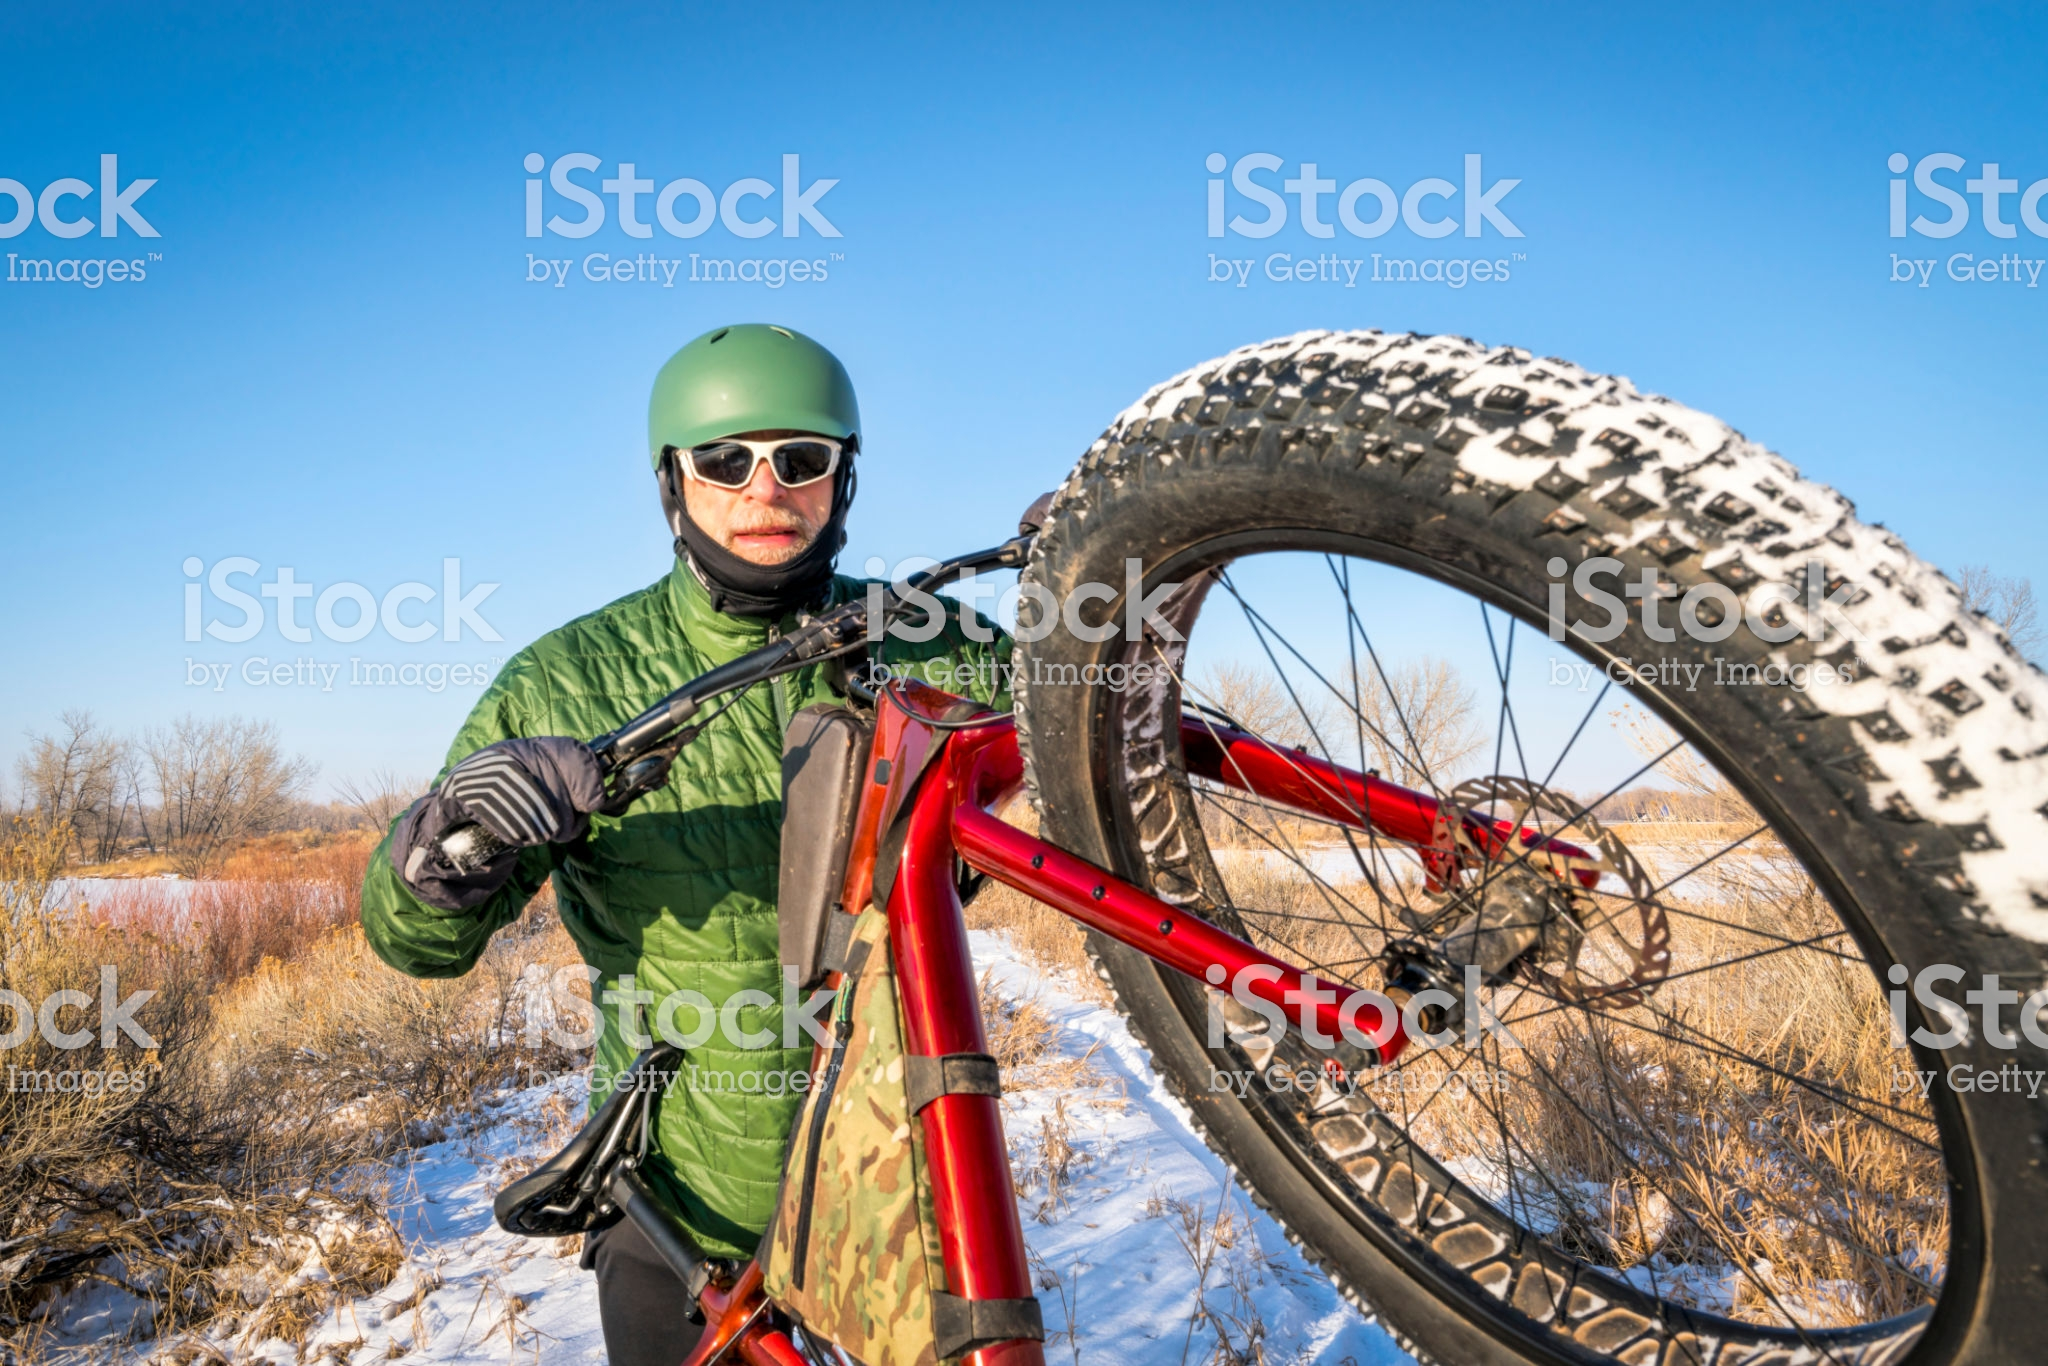helmet: (629, 309, 864, 518)
